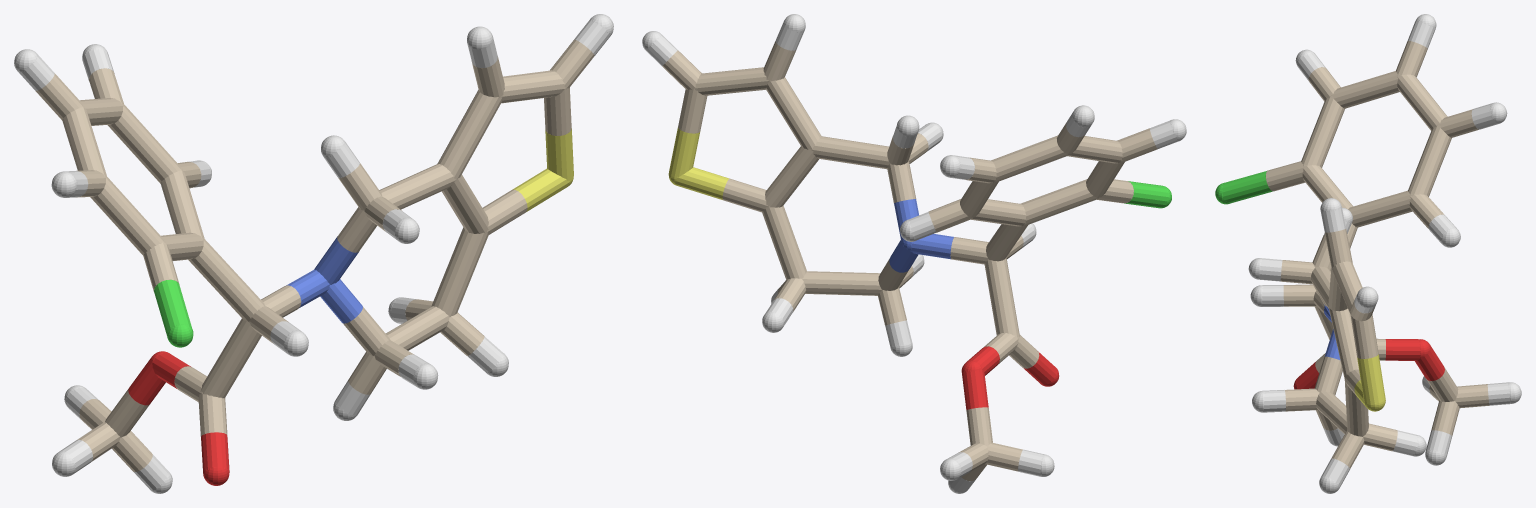
Rendered from clopidogrel.fbx.
3 views of the same model, side by side, from view 1: azimuth 30°, elevation 25°; view 2: azimuth 150°, elevation 25°; view 3: azimuth 270°, elevation 25° (orthographic). The views are drawn at different scales.
Parts seen in each view (by area): view 1: Shape_Cylinder.038, Shape_Cylinder.032, Shape_Cylinder.028, Shape_Cylinder.029, Shape_Cylinder.047, Shape_Cylinder.046, Shape_Cylinder.023, Shape_Cylinder.050, Shape_Cylinder.040, Shape_Cylinder.041, Shape_Cylinder.018, Shape_Cylinder.037 (+38 smaller); view 2: Shape_Cylinder.029, Shape_Cylinder.018, Shape_Cylinder.038, Shape_Cylinder.032, Shape_Cylinder.023, Shape_Cylinder.053, Shape_Cylinder.039, Shape_Cylinder.041, Shape_Cylinder.037, Shape_Cylinder.040, Shape_Cylinder.050, Shape_Cylinder.002 (+21 smaller); view 3: Shape_Cylinder.046, Shape_Cylinder.047, Shape_Cylinder.050, Shape_Cylinder.040, Shape_Cylinder.053, Shape_Cylinder.037, Shape_Cylinder.004, Shape_Cylinder, Shape_Cylinder.039, Shape_Cylinder.005, Shape_Cylinder.032, Shape_Cylinder.041 (+35 smaller).
Part boxes in pixels (left/top/right/bottom): Shape_Cylinder.038: left=437, top=90, right=502, bottom=180; Shape_Cylinder.032: left=431, top=227, right=488, bottom=317; Shape_Cylinder.028: left=188, top=238, right=264, bottom=321; Shape_Cylinder.029: left=200, top=318, right=261, bottom=398; Shape_Cylinder.047: left=107, top=103, right=182, bottom=183; Shape_Cylinder.046: left=90, top=176, right=164, bottom=255; Shape_Cylinder.023: left=379, top=164, right=455, bottom=212; Shape_Cylinder.050: left=62, top=107, right=106, bottom=175; Shape_Cylinder.040: left=160, top=170, right=204, bottom=238; Shape_Cylinder.041: left=501, top=70, right=565, bottom=103; Shape_Cylinder.018: left=385, top=306, right=449, bottom=350; Shape_Cylinder.037: left=442, top=174, right=488, bottom=233; Shape_Cylinder.029: left=984, top=257, right=1019, bottom=338; Shape_Cylinder.018: left=802, top=271, right=881, bottom=295; Shape_Cylinder.038: left=766, top=77, right=821, bottom=149; Shape_Cylinder.032: left=762, top=205, right=806, bottom=280; Shape_Cylinder.023: left=811, top=136, right=889, bottom=169; Shape_Cylinder.053: left=991, top=135, right=1068, bottom=182; Shape_Cylinder.039: left=1020, top=179, right=1098, bottom=225; Shape_Cylinder.041: left=694, top=67, right=768, bottom=95; Shape_Cylinder.037: left=765, top=146, right=818, bottom=207; Shape_Cylinder.040: left=971, top=199, right=1026, bottom=226; Shape_Cylinder.050: left=1067, top=136, right=1122, bottom=163; Shape_Cylinder.002: left=676, top=167, right=729, bottom=199; Shape_Cylinder.046: left=1301, top=96, right=1344, bottom=167; Shape_Cylinder.047: left=1408, top=125, right=1451, bottom=196; Shape_Cylinder.050: left=1331, top=71, right=1399, bottom=108; Shape_Cylinder.040: left=1348, top=190, right=1412, bottom=227; Shape_Cylinder.053: left=1397, top=74, right=1447, bottom=130; Shape_Cylinder.037: left=1328, top=307, right=1358, bottom=380; Shape_Cylinder.004: left=1357, top=354, right=1385, bottom=404; Shape_Cylinder: left=1221, top=171, right=1272, bottom=203; Shape_Cylinder.039: left=1302, top=165, right=1352, bottom=209; Shape_Cylinder.005: left=1350, top=314, right=1378, bottom=358; Shape_Cylinder.032: left=1344, top=380, right=1368, bottom=436; Shape_Cylinder.041: left=1332, top=261, right=1362, bottom=314.
Size of the model in its own units: 1031 by 795 by 560.
